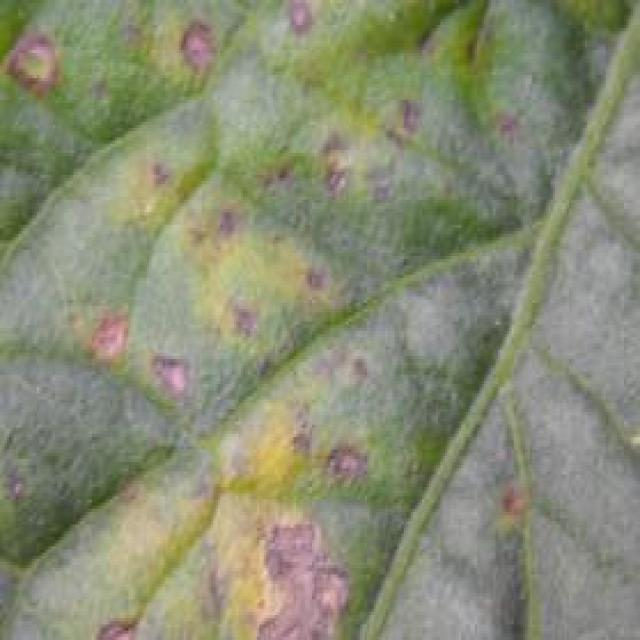unhealthy: (0, 0, 638, 637)
